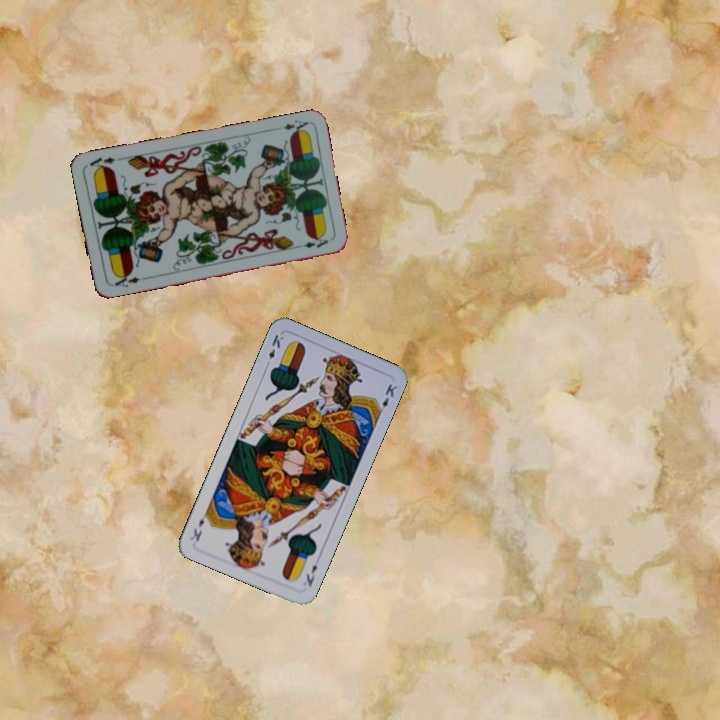EA: (107, 269, 143, 290), (279, 115, 311, 136)
EK: (262, 330, 286, 370), (302, 561, 320, 589)
